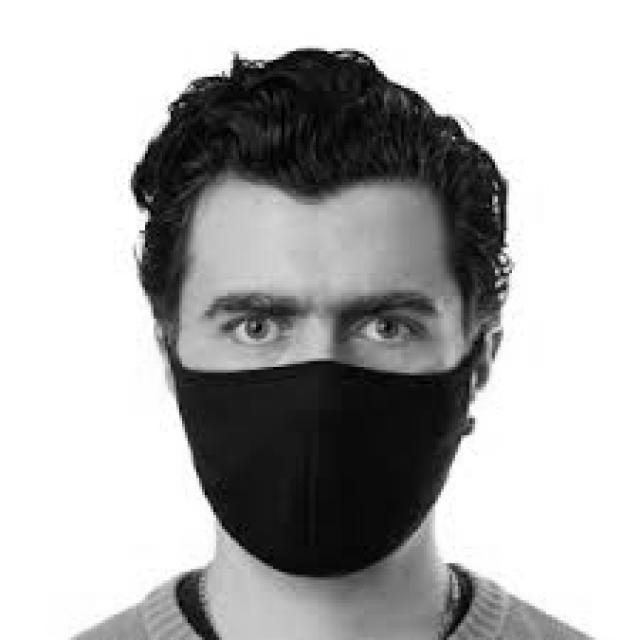fake: (160, 338, 487, 583)
real: (175, 174, 466, 587)
